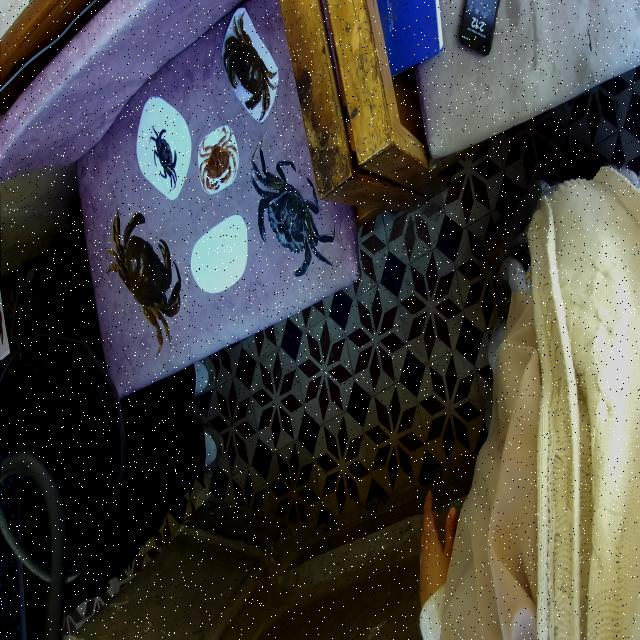European_Green_Crab: (234, 126, 350, 308), (143, 115, 186, 196)
